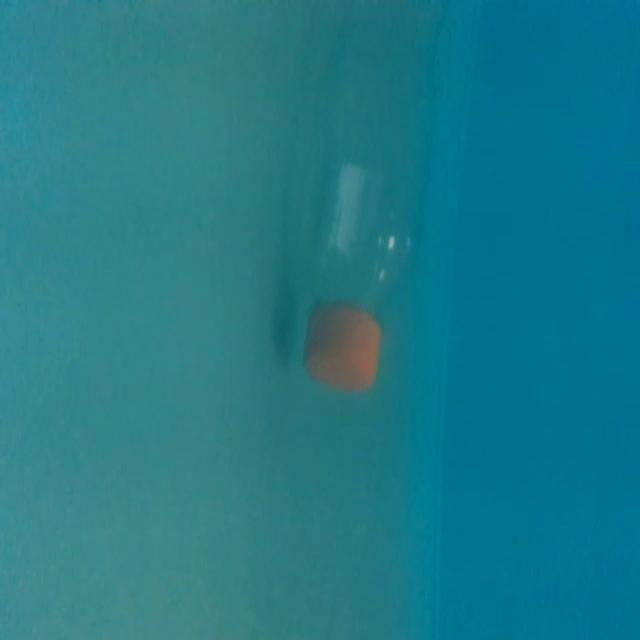plastic bottle: (301, 8, 448, 404)
